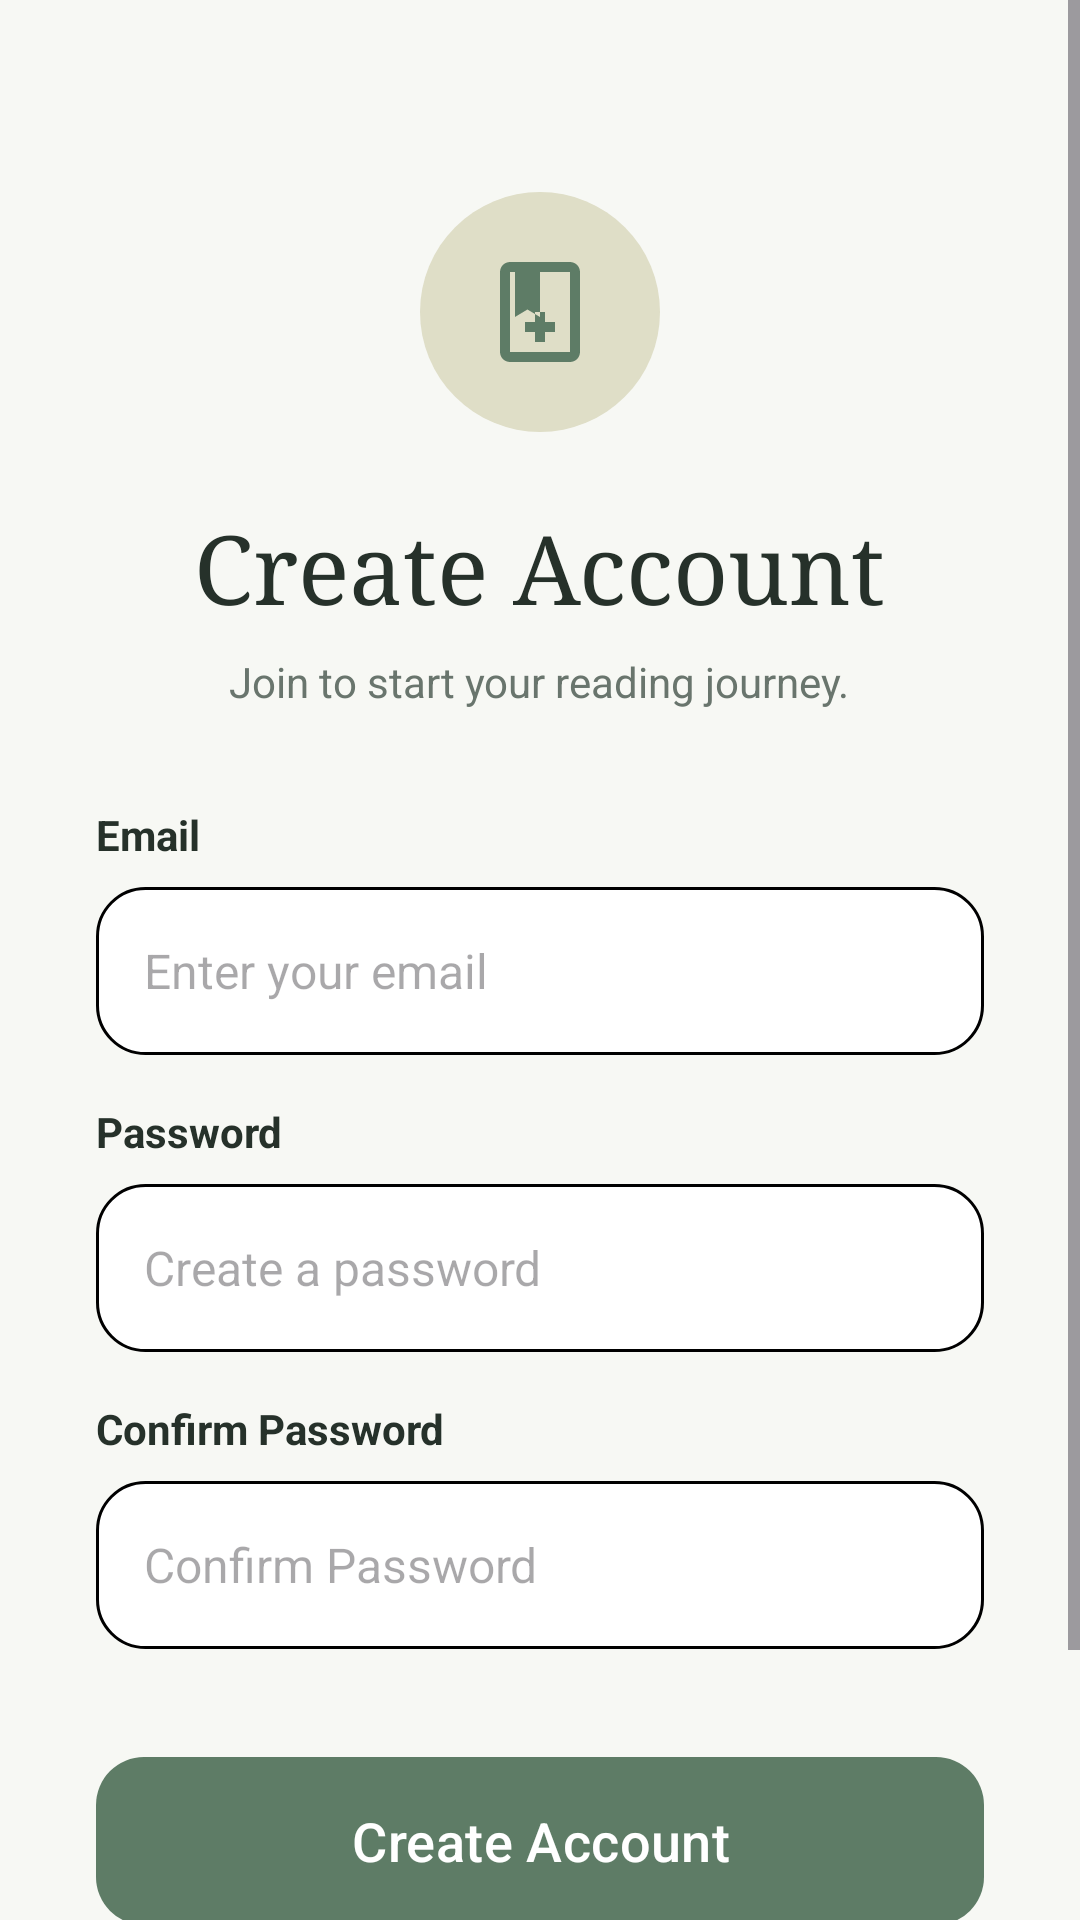

Icon click points for this 1080 x 1920 phone screenshot, format (x=x, y=y):
book add: (x=540, y=312)
